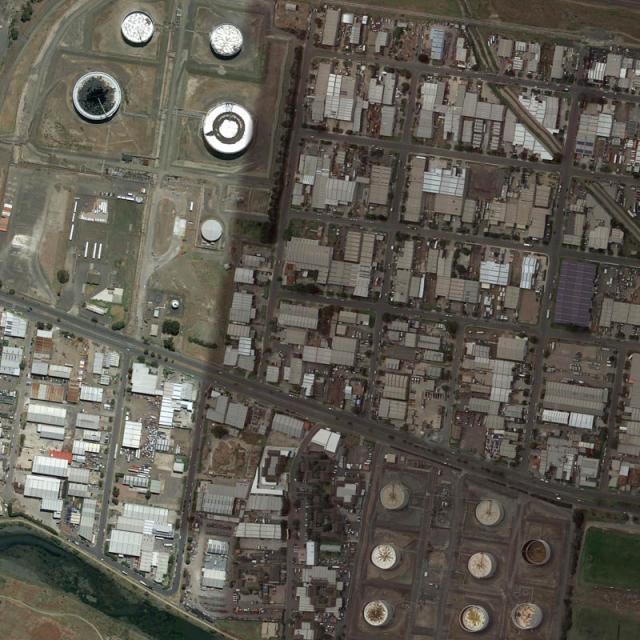vehicle: (563, 377, 574, 382), (189, 202, 194, 211), (546, 309, 549, 319), (574, 364, 578, 371), (524, 243, 533, 246), (578, 365, 581, 372), (414, 314, 421, 317), (450, 451, 457, 454), (570, 363, 572, 370), (557, 498, 562, 500), (369, 367, 371, 371), (546, 481, 549, 483), (556, 494, 559, 495)
